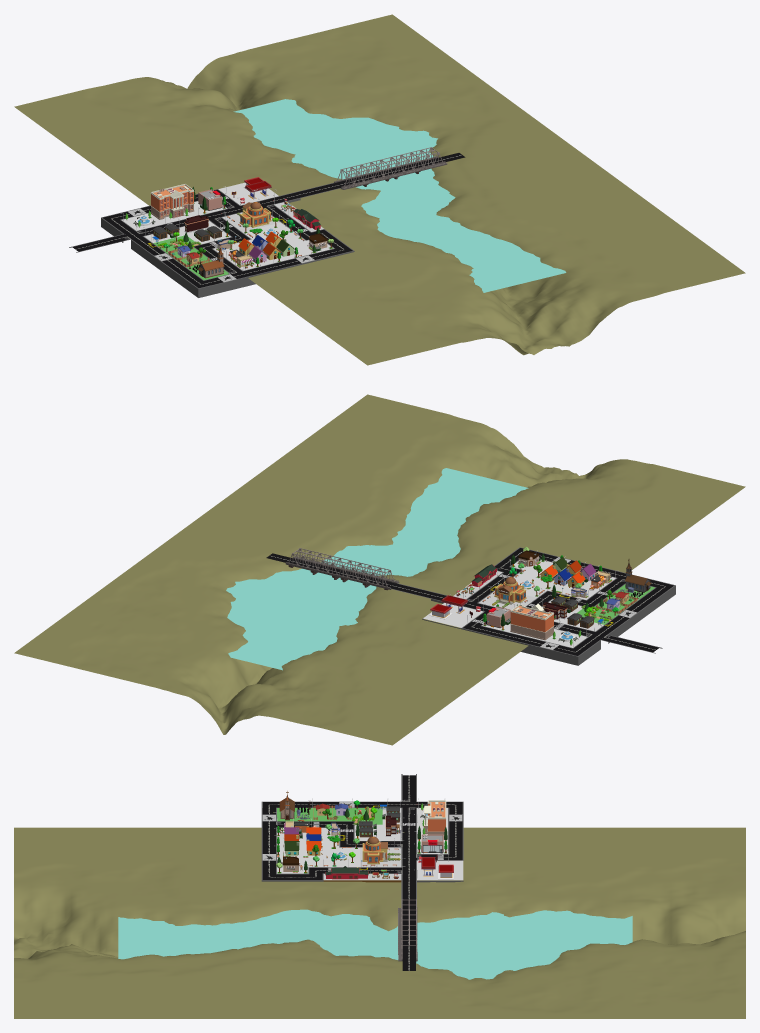
File: Town.fbx
3 views of the same model, one above another, from view 1: azimuth 30°, elevation 25°; view 2: azimuth 150°, elevation 25°; view 3: azimuth 270°, elevation 25° (orthographic). The views are drawn at different scales.
Visible parts, largest first — view 1: Landscape, Plane.242, Low-poly university, Plane.195, Plane.197, bridge1.003, Plane.196, bridge1.008; view 2: Landscape, Plane.242, Low-poly university, Plane.195, bridge1.003, bridge1.008, Plane.196; view 3: Landscape, Plane.242, Plane.195, Low-poly university, Plane.196, Plane.200, Plane.197, Plane.089_Marcapiede_0, Object_4.001.
Boxes of the visible parts, left/top/right/bottom form: Landscape: left=14, top=14, right=745, bottom=365; Plane.242: left=233, top=99, right=566, bottom=292; Low-poly university: left=150, top=184, right=194, bottom=219; Plane.195: left=213, top=222, right=330, bottom=270; Plane.197: left=122, top=201, right=226, bottom=230; bridge1.003: left=337, top=158, right=393, bottom=186; Plane.196: left=218, top=182, right=278, bottom=205; bridge1.008: left=386, top=147, right=442, bottom=174; Landscape: left=14, top=394, right=745, bottom=745; Plane.242: left=226, top=468, right=528, bottom=670; Low-poly university: left=510, top=603, right=553, bottom=640; Plane.195: left=512, top=559, right=615, bottom=599; bridge1.003: left=338, top=559, right=394, bottom=586; bridge1.008: left=288, top=548, right=344, bottom=574; Plane.196: left=423, top=603, right=482, bottom=627; Landscape: left=14, top=827, right=745, bottom=1018; Plane.242: left=118, top=909, right=632, bottom=979; Plane.195: left=277, top=828, right=359, bottom=873; Low-poly university: left=424, top=800, right=446, bottom=839; Plane.196: left=417, top=860, right=463, bottom=880; Plane.200: left=354, top=808, right=401, bottom=840; Plane.197: left=417, top=808, right=447, bottom=853; Plane.089_Marcapiede_0: left=360, top=847, right=401, bottom=867; Object_4.001: left=325, top=866, right=368, bottom=879.
Size of the model in its own units: 16252 by 1912 by 20628.
